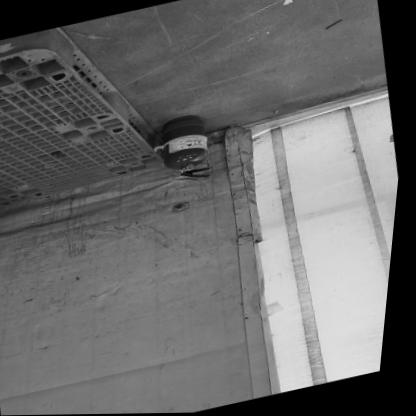FE: (155, 110, 221, 185)
